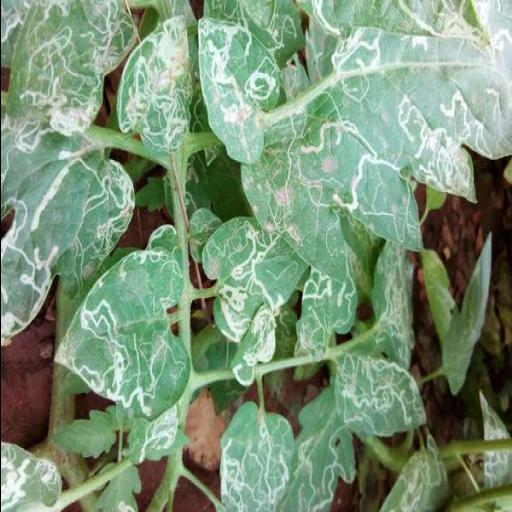Leaf Miner: (240, 0, 512, 284), (53, 250, 189, 420), (200, 214, 314, 342), (194, 15, 282, 165), (114, 12, 194, 157), (217, 398, 298, 512), (331, 348, 431, 438)
